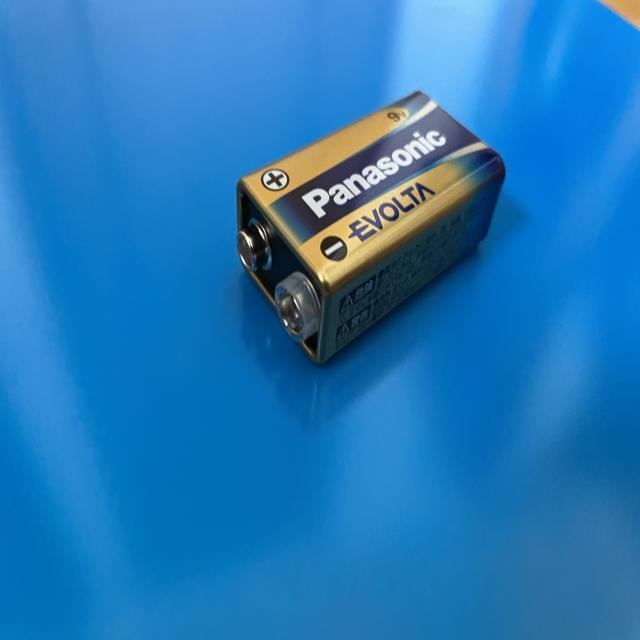9V: (235, 87, 506, 365)
